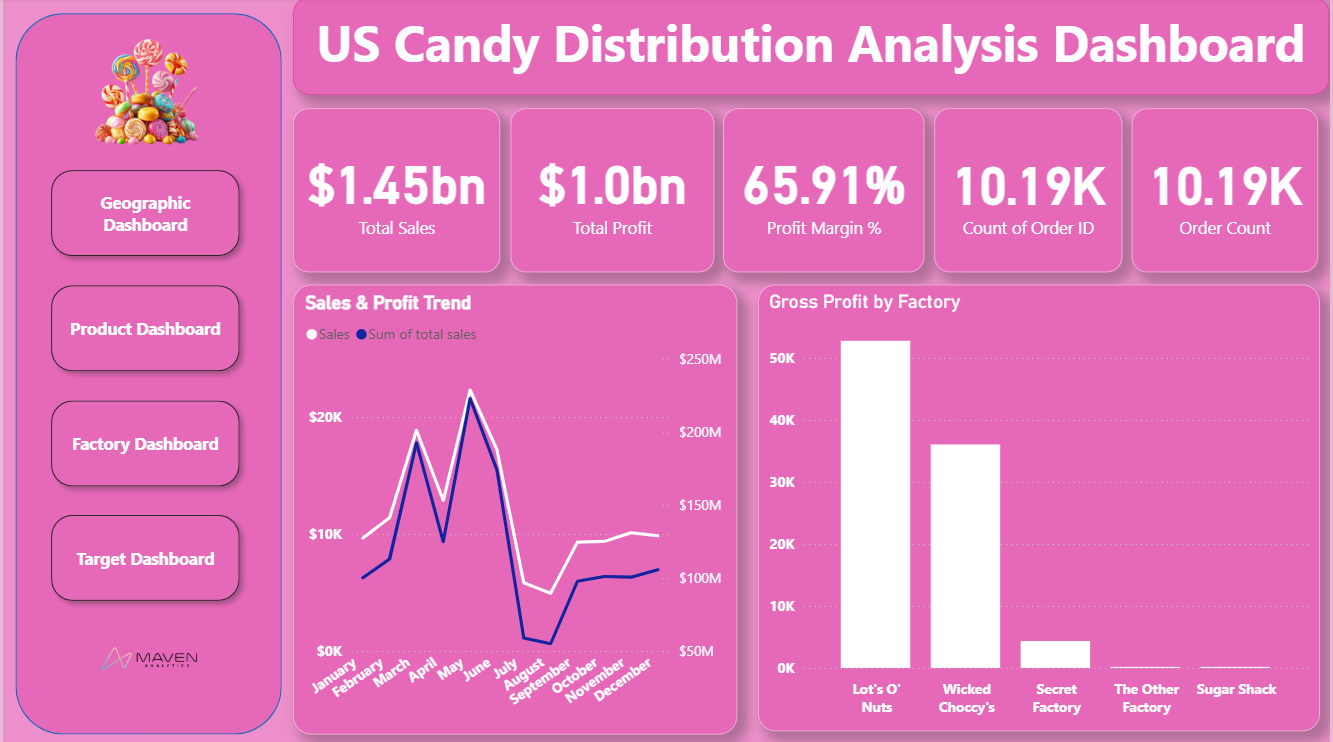

The page's visual inventory and layout, read from the dashboard file:
{"tool":"powerbi","page":{"name":"Overview","canvas":[1280,720],"ordinal":0},"visuals":[{"type":"textbox","box":[280,0,1000,94.3],"z":0},{"type":"card","fields":{"Values":["Sum(cleaned_sales.total sales)"]},"box":[279.9,107.4,200.3,158],"z":1000},{"type":"card","fields":{"Values":["Sum(cleaned_sales.total profit)"]},"box":[489.8,107.4,196.6,158],"z":2000},{"type":"card","fields":{"Values":["Avg(cleaned_sales.Profit Margin %)"]},"box":[694.9,107.4,194.2,158],"z":3000},{"type":"card","fields":{"Values":["CountNonNull(cleaned_sales.Order ID)"]},"box":[898.6,107.1,181.4,158.6],"z":4000},{"type":"card","fields":{"Values":["CountNonNull(cleaned_sales.Order ID)"]},"box":[1090,107.1,180,158.6],"z":5000},{"type":"lineChart","title":"Sales & Profit Trend","fields":{"Y":["Sum(cleaned_sales.Sales)"],"Category":["cleaned_sales.Ship Date.Variation.Date Hierarchy.Month"],"Y2":["Sum(cleaned_sales.total sales)"]},"box":[280,277.1,428.6,434.3],"z":6000},{"type":"shape","box":[11.9,15.3,257,696.2],"z":7000,"group":"g1"},{"type":"clusteredColumnChart","title":"Gross Profit by Factory","fields":{"Y":["Sum(cleaned_sales.Gross Profit)"],"Category":["cleaned_sales.Factory"]},"box":[728.6,277.2,542,430.9],"z":8000},{"type":"pageNavigator","box":[37.6,157.7,200.9,435.7],"z":9000,"group":"g1"},{"type":"image","box":[78.3,32.3,119.1,117.4],"z":11000,"group":"g1"},{"type":"image","box":[90.2,583.8,102.1,108.9],"z":11500,"group":"g1"},{"type":"group","id":"g1","title":"Group 1","box":[11.9,15.3,257,696.2],"z":11501}]}

Visuals, with their boxes in screenshot pixels (x1, y1, x2, y2), scaled from the page's 1280x720 canvas onto the 1333x742 screenshot:
textbox: [292,0,1332,97]
card - Sum(cleaned_sales.total sales): [291,111,500,274]
card - Sum(cleaned_sales.total profit): [510,111,715,274]
card - Avg(cleaned_sales.Profit Margin %): [724,111,926,274]
card - CountNonNull(cleaned_sales.Order ID): [936,110,1125,274]
card - CountNonNull(cleaned_sales.Order ID): [1135,110,1323,274]
"Sales & Profit Trend" lineChart: [292,286,738,733]
shape: [12,16,280,733]
"Gross Profit by Factory" clusteredColumnChart: [759,286,1323,730]
pageNavigator: [39,163,248,612]
image: [82,33,206,154]
image: [94,602,200,714]
"Group 1" group: [12,16,280,733]
